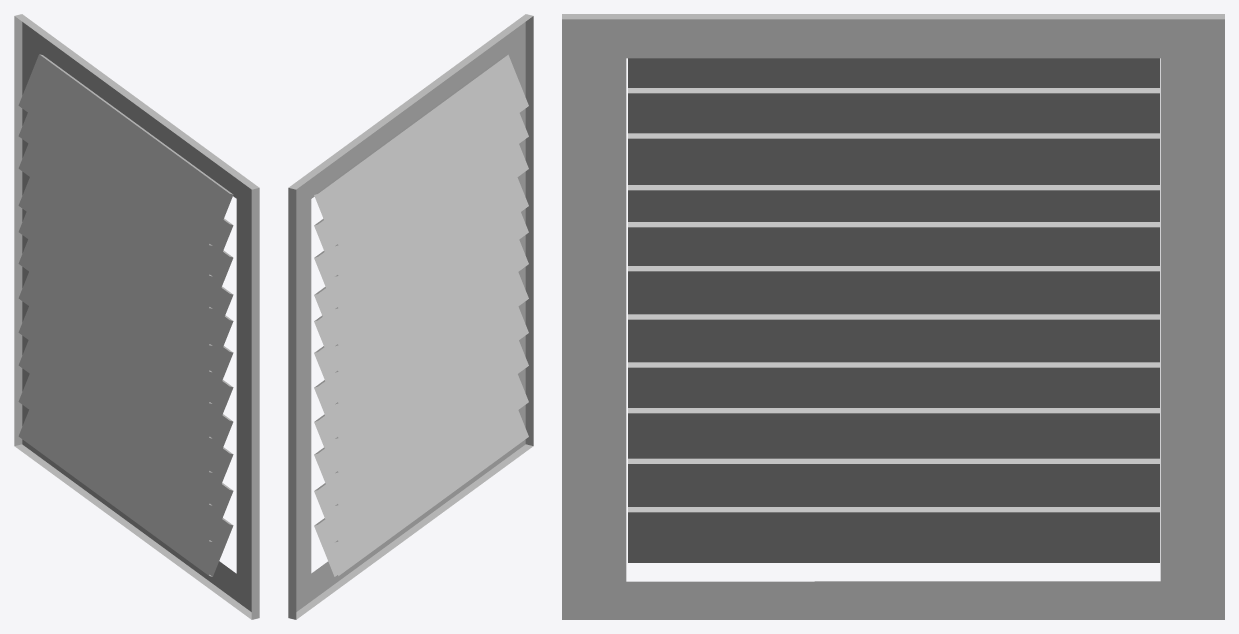
File: SM_Airing_Cap_01.FBX
The picture shows the model from 3 angles, left to right: view 1: azimuth 30°, elevation 25°; view 2: azimuth 150°, elevation 25°; view 3: azimuth 270°, elevation 25°; orthographic projection. The views are drawn at different scales.
Visible parts, largest first — view 1: SM_Airing_Cap_01; view 2: SM_Airing_Cap_01; view 3: SM_Airing_Cap_01.
Part boxes in pixels (x1=…): SM_Airing_Cap_01: x1=14, y1=14, x2=259, y2=619; SM_Airing_Cap_01: x1=288, y1=14, x2=533, y2=619; SM_Airing_Cap_01: x1=562, y1=14, x2=1224, y2=619.
Bounding box in the file's own units: 3.69 × 56.42 × 56.42.
Materials: 1 (1 with a texture image).
